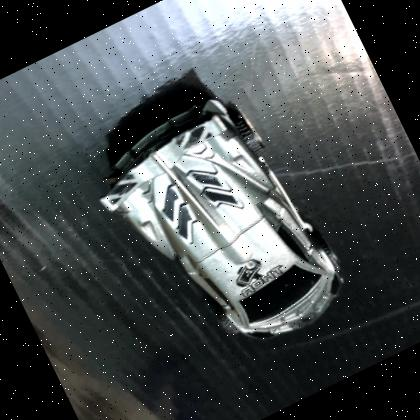Car: (100, 93, 343, 337)
